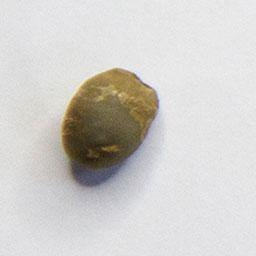peaberry: (58, 62, 162, 173)
